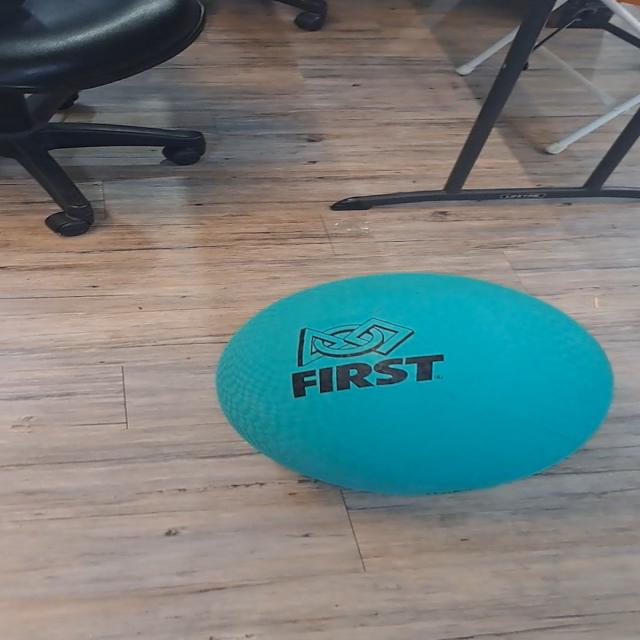ALGAE: (213, 269, 615, 497)
